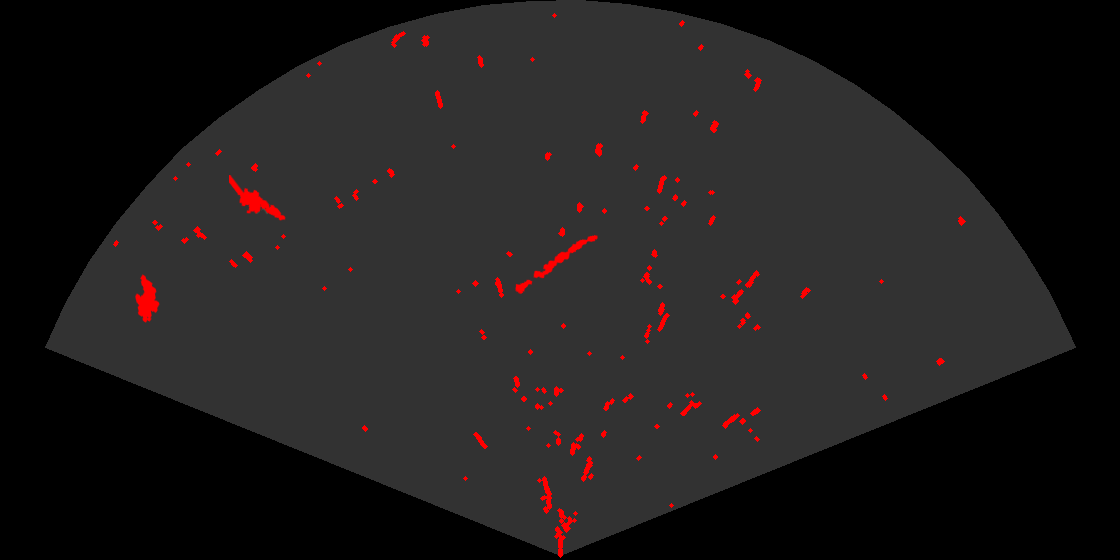AUV: (134, 273, 161, 324)
chain: (514, 233, 599, 296)
frogman: (229, 175, 287, 222)
